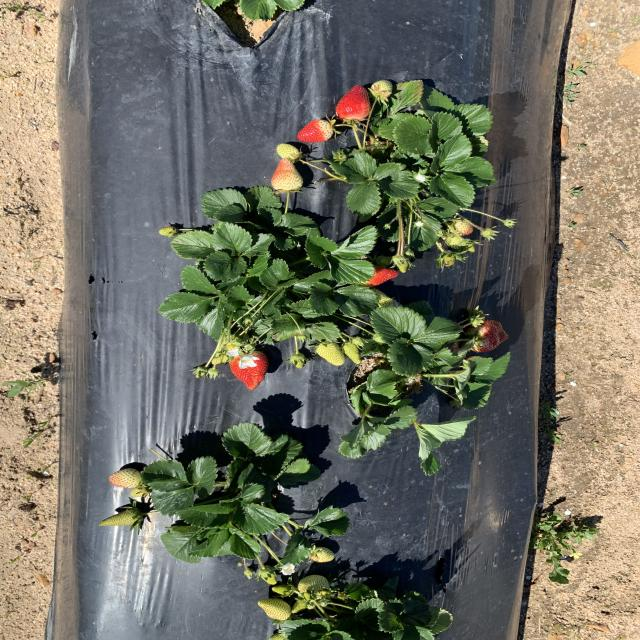unripe: (230, 348, 270, 391), (332, 84, 374, 121), (466, 318, 510, 351), (348, 266, 399, 286), (296, 120, 335, 142)
